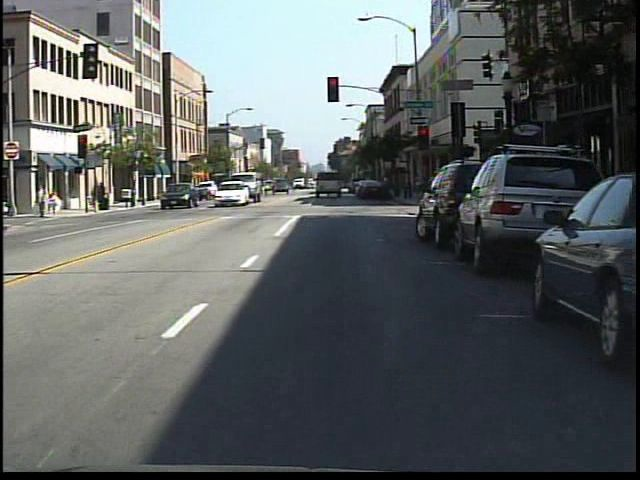person: (33, 181, 51, 221), (47, 186, 64, 220)
